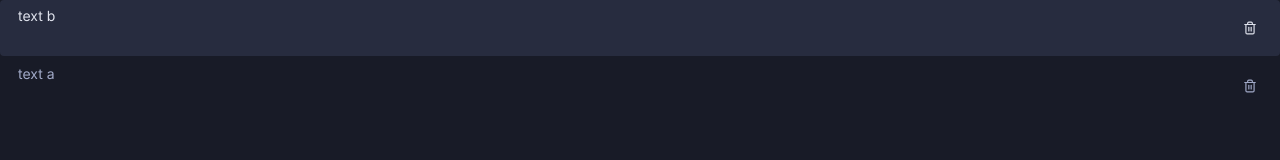
Test: SavedView › on a wide window › shows an entry in the pane on a click or Enter without leaving the tab, and opens it on a double-click
The image size is (1280, 160).
Later steps or results of the test are not shown.
Click the button with test id "saved-row" at [36, 74], box [0,58,1279,114]
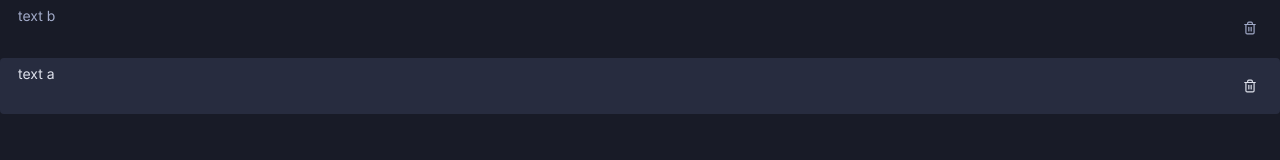
Expected: the button with test id "saved-row" is marked as current, [0,58,1279,114]
